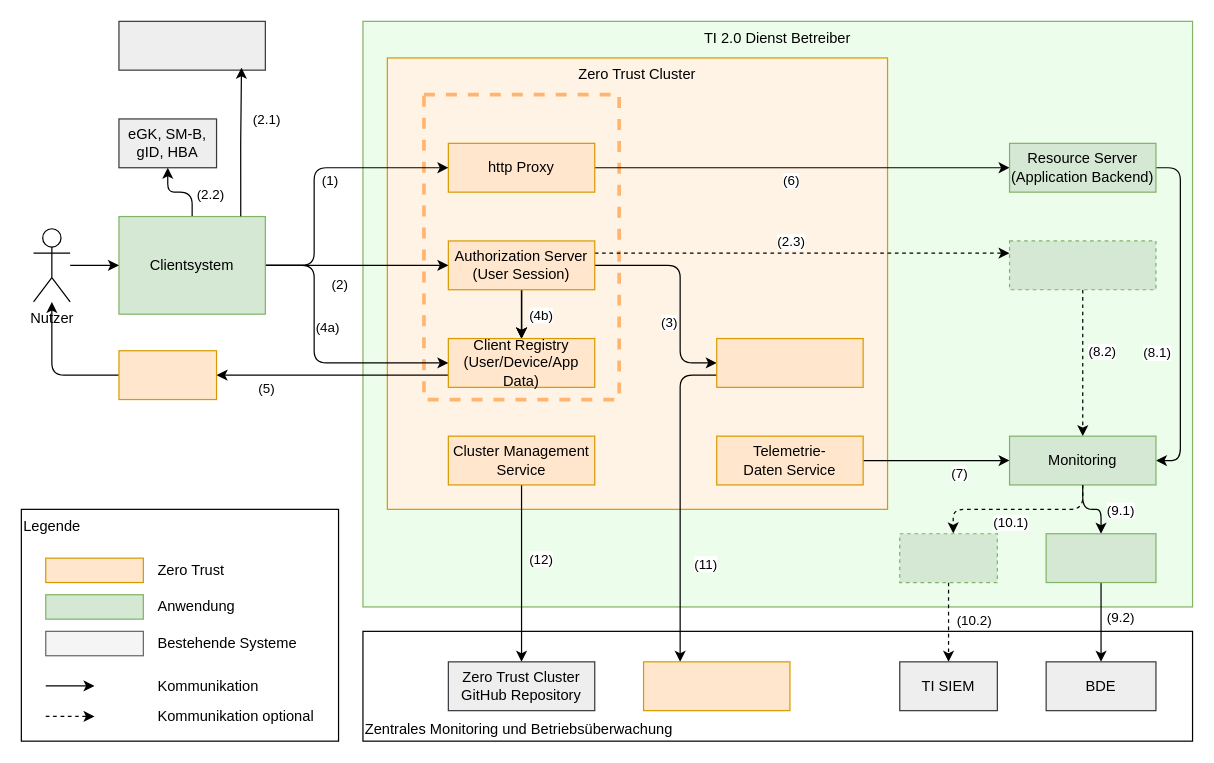
Image size: 1214x763. Some labels were removed from this diagram. Here are the shapes that lost their labels. From the top down, the box of each, then its label:
(118, 20, 265, 70): Federated IDP, IDP-Dienst
(422, 92, 620, 401): PEP
(1008, 240, 1156, 290): Application Authorization Backend
(118, 350, 217, 400): E-Mail Confirmation-Code/Link
(716, 337, 863, 387): PDP
(899, 533, 997, 583): SIEM
(1045, 533, 1156, 583): BDE Lieferung
(642, 661, 790, 711): PIP und PAP Service
